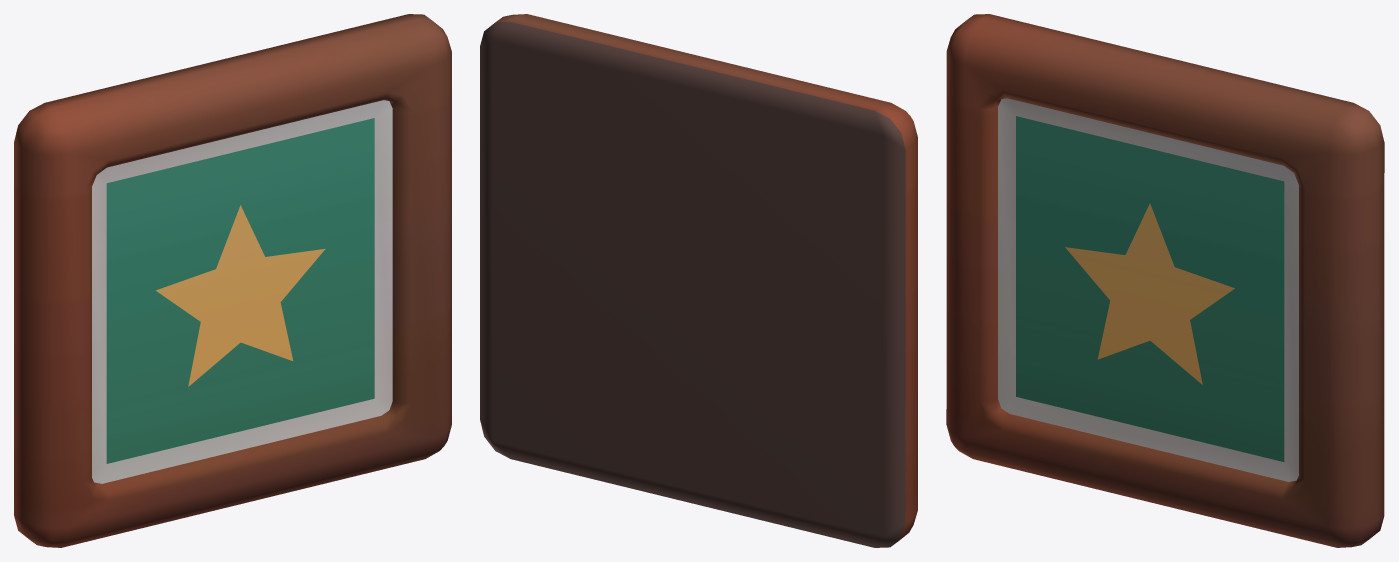
File: Picture_14.glb
3 renders of one model, left to right at view 1: azimuth 30°, elevation 25°; view 2: azimuth 150°, elevation 25°; view 3: azimuth 330°, elevation 25°, orthographic.
Visible parts, largest first — view 1: Picture_14; view 2: Picture_14; view 3: Picture_14.
Boxes of the visible parts, bbox=[...] form: Picture_14: bbox=[14, 14, 451, 547]; Picture_14: bbox=[480, 14, 917, 547]; Picture_14: bbox=[946, 14, 1384, 547].
Bounding box in the file's own units: 0.4773 × 0.4687 × 0.0585.
1 material, 1 textured.
